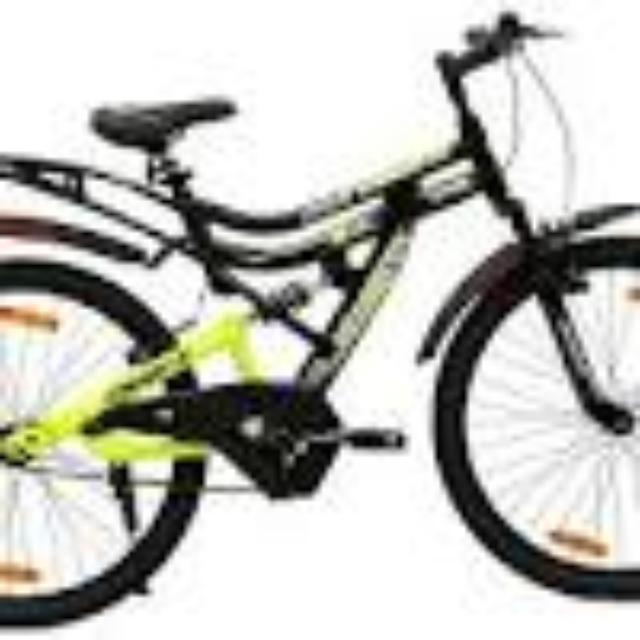obstacle: (1, 6, 640, 640)
